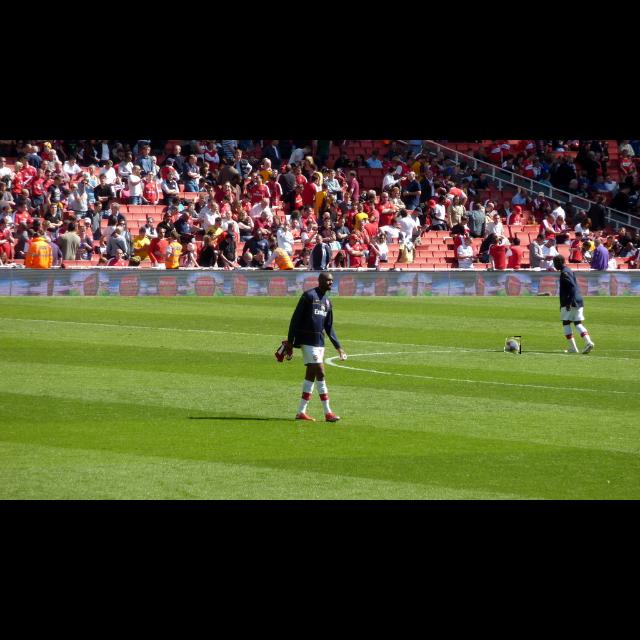Football: (505, 336, 521, 354)
